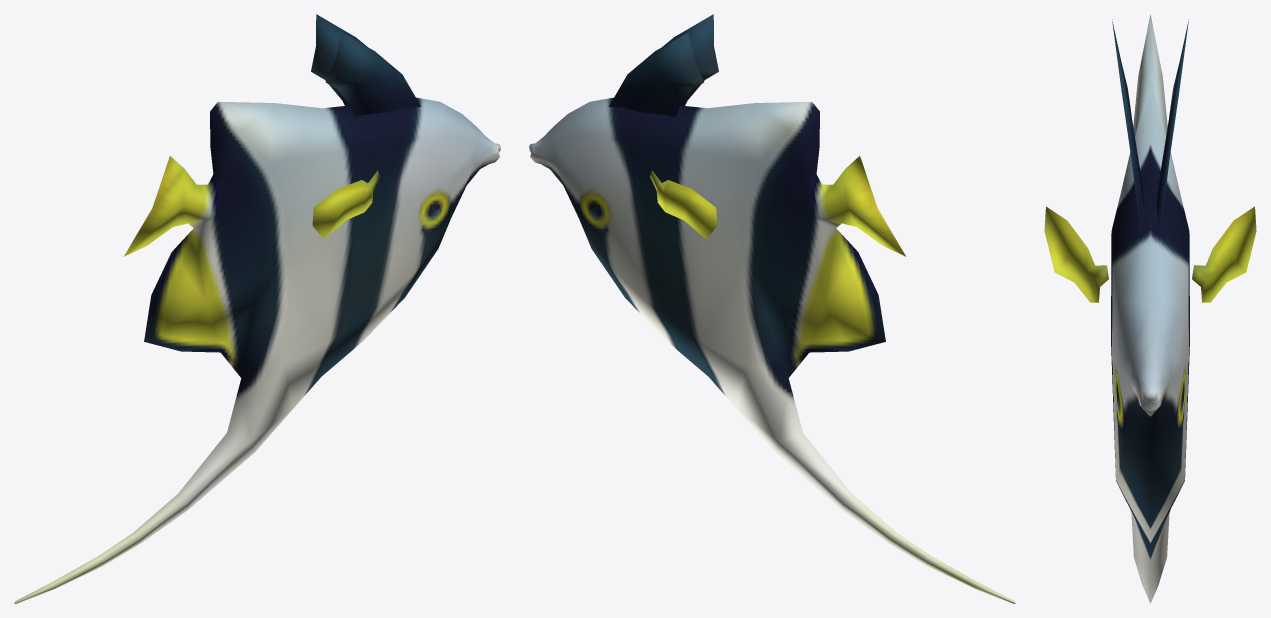
Rendered from f04_mafuyu.FBX.
3 views of the same model, side by side, from view 1: azimuth 30°, elevation 25°; view 2: azimuth 150°, elevation 25°; view 3: azimuth 270°, elevation 25° (orthographic). The views are drawn at different scales.
Visible parts, largest first — view 1: f04_mafuyu; view 2: f04_mafuyu; view 3: f04_mafuyu.
Part boxes in pixels (x1,y1,x2,y2): f04_mafuyu: (14,14,500,603); f04_mafuyu: (529,14,1015,603); f04_mafuyu: (1044,14,1256,603).
Size of the model in its own units: 54.52 by 54.15 by 13.52.
